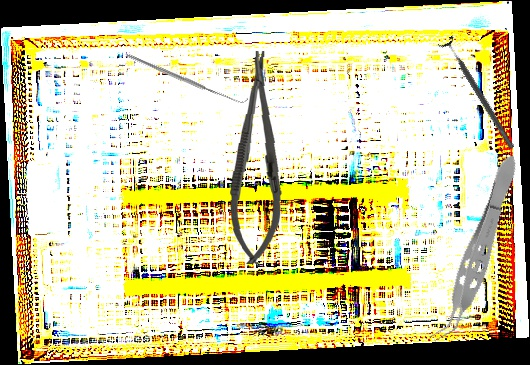Fixation Ring: (436, 34, 521, 154)
Hook Surgical: (125, 12, 249, 143)
Needle Holder: (227, 50, 288, 265)
Tissue Forceps: (426, 149, 528, 352)
